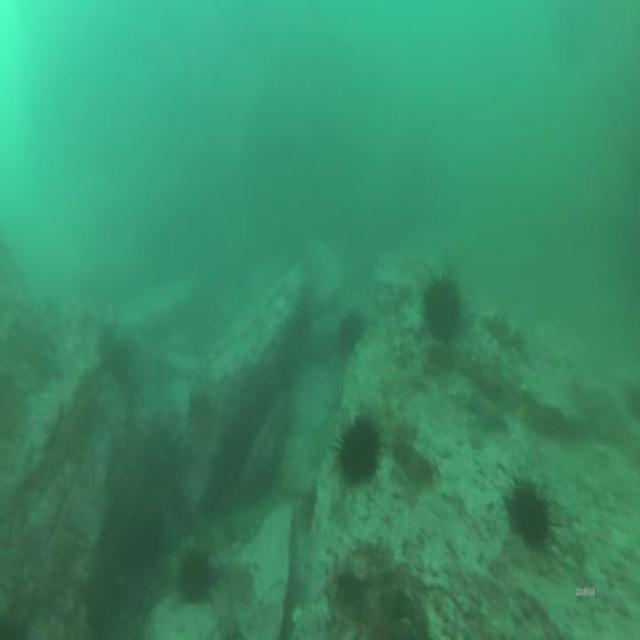echinus: (503, 468, 553, 553), (332, 409, 383, 492), (418, 267, 466, 348), (172, 537, 216, 613), (97, 330, 137, 389), (336, 307, 366, 354), (624, 382, 640, 423)
starfish: (454, 378, 510, 439)
